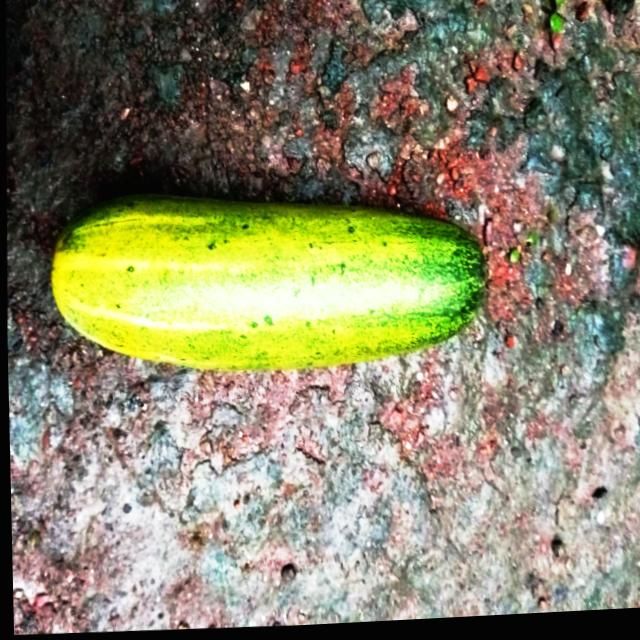Fresh-Cucumber: (44, 177, 489, 388)
